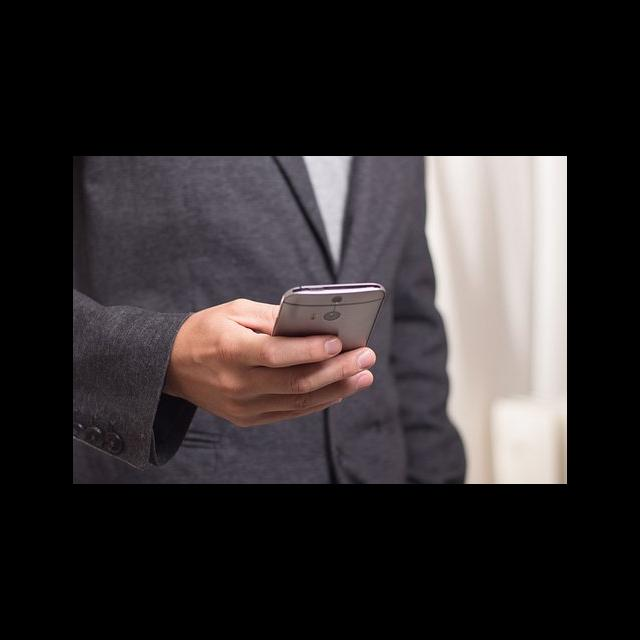female: (110, 159, 362, 331)
